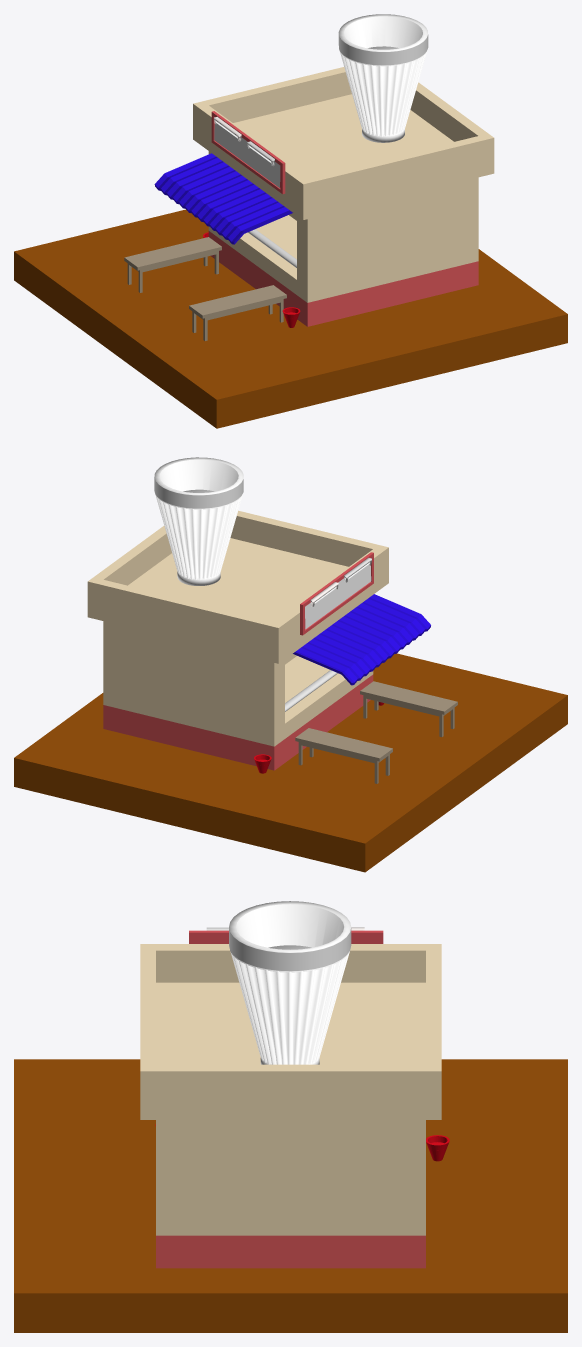
The model's file is Teashop.glb.
3 views of the same model, one above another, from view 1: azimuth 30°, elevation 25°; view 2: azimuth 150°, elevation 25°; view 3: azimuth 270°, elevation 25° (orthographic). The views are drawn at different scales.
Visible parts, largest first — view 1: Cube, Cube.001, TeaCup, Cube.002, Cube.009, Cube.008, Plane, Cube.003; view 2: Cube, Cube.001, TeaCup, Cube.002, Cube.009, Cube.008, Plane, Cube.003; view 3: Cube, Cube.001, TeaCup, Cube.003.
Part boxes in pixels (box(x1,y1,x2,y2)): Cube: box(14, 209, 567, 428); Cube.001: box(193, 67, 494, 326); TeaCup: box(338, 14, 428, 142); Cube.002: box(154, 153, 292, 244); Cube.009: box(189, 285, 286, 340); Cube.008: box(124, 237, 221, 292); Plane: box(214, 124, 280, 187); Cube.003: box(211, 111, 285, 194); Cube: box(14, 653, 567, 872); Cube.001: box(87, 510, 388, 770); TeaCup: box(154, 457, 243, 585); Cube.002: box(293, 594, 430, 685); Cube.009: box(360, 681, 457, 737); Cube.008: box(295, 728, 392, 783); Plane: box(305, 565, 371, 628); Cube.003: box(300, 552, 373, 635); Cube: box(14, 1059, 567, 1332); Cube.001: box(140, 944, 441, 1268); TeaCup: box(229, 901, 351, 1064); Cube.003: box(189, 930, 383, 943).
Size of what is drawn, in the model's own units: 4.72 by 3.29 by 4.72.
